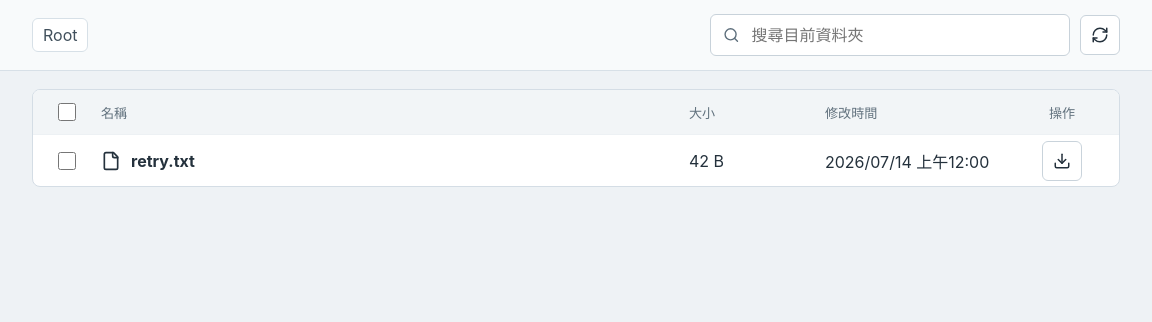
DriveView batch downloads › keeps the selection when the batch API fails
The image size is (1152, 322).
Click the checkbox named "選取 retry.txt".
click(67, 160)  # box left=58, top=152, right=76, bottom=170
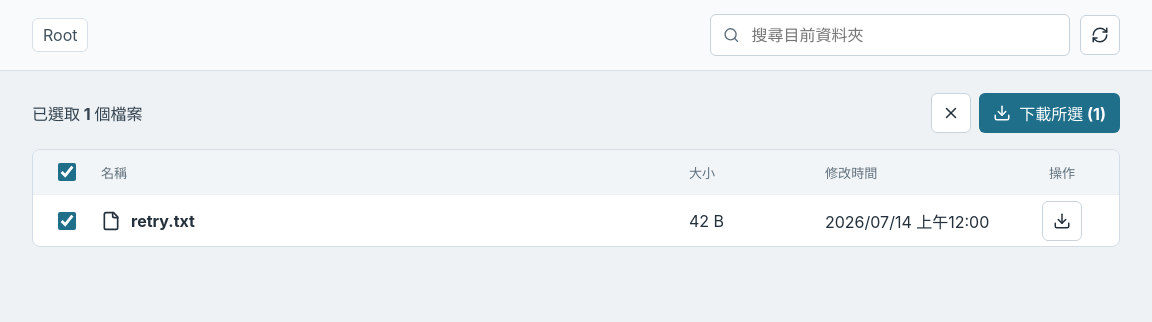
Click the button "下載所選 (1)".
click(1050, 113)  # box left=979, top=93, right=1120, bottom=133
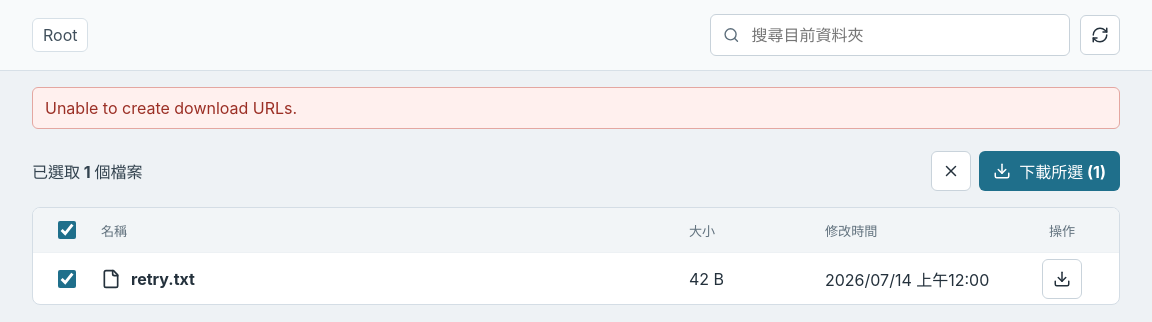
Expected: the checkbox named "選取 retry.txt" is checked, left=58, top=270, right=76, bottom=288
Expected: the button "下載所選 (1)" is shown, left=979, top=151, right=1120, bottom=191
Expected: the text "Unable to create download URLs." is shown, left=32, top=87, right=1120, bottom=129
